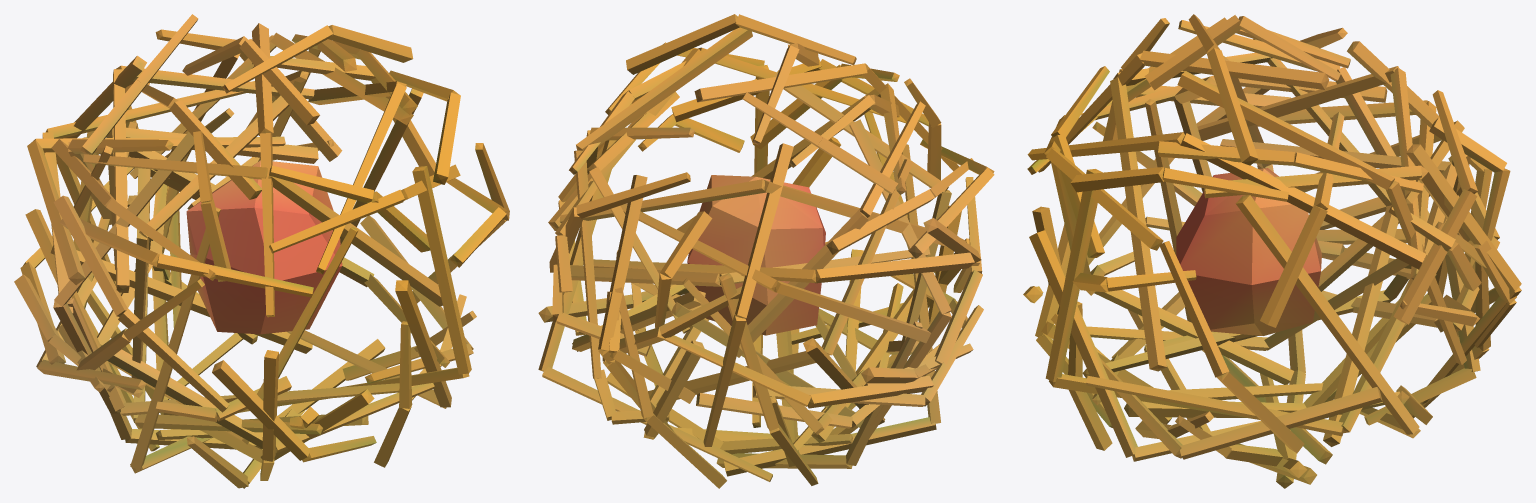
The model's file is Tumbleweed_01.glb.
The picture shows the model from 3 angles, left to right: view 1: azimuth 30°, elevation 25°; view 2: azimuth 150°, elevation 25°; view 3: azimuth 270°, elevation 25°; orthographic projection. The views are drawn at different scales.
Visible parts, largest first — view 1: Tumbleweed_01; view 2: Tumbleweed_01; view 3: Tumbleweed_01.
Part boxes in pixels (box(x1,y1,x2,y2)): Tumbleweed_01: box(14, 14, 509, 488); Tumbleweed_01: box(538, 14, 994, 488); Tumbleweed_01: box(1023, 14, 1521, 488).
Bounding box in the file's own units: 0.9389 × 0.9135 × 0.9119.
